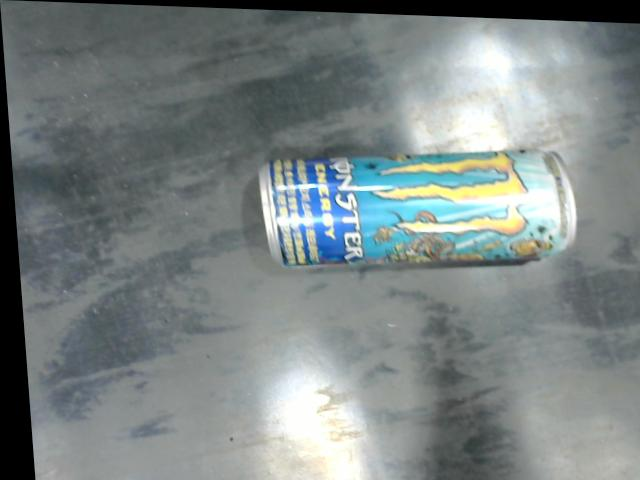can: (254, 142, 579, 269)
